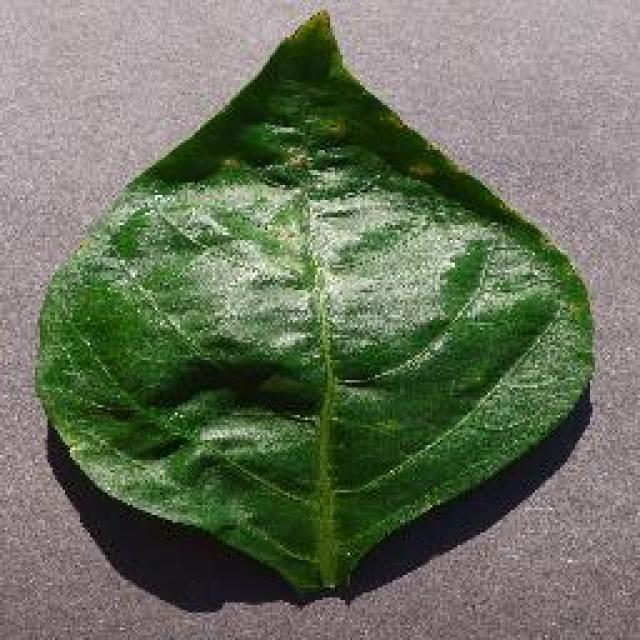Chilli_Bacterial_Spot: (30, 5, 598, 600), (125, 163, 490, 375), (315, 113, 350, 145), (280, 145, 312, 175)
